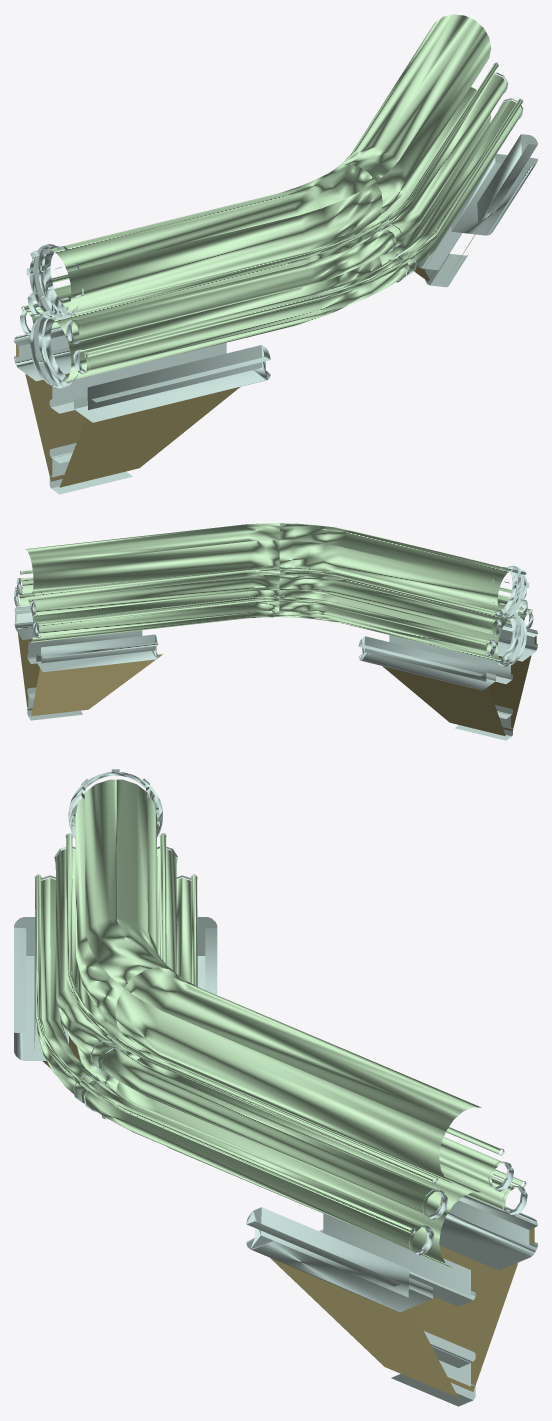
File: pipeline_b_45d_100m_b.glb
The picture shows the model from 3 angles, top to bottom: view 1: azimuth 30°, elevation 25°; view 2: azimuth 150°, elevation 25°; view 3: azimuth 270°, elevation 25°; orthographic projection. The views are drawn at different scales.
Bounding box in the file's own units: 111 × 42.87 × 67.48.
